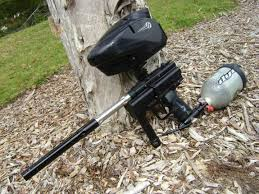Arma Falsa: (20, 9, 249, 180)
